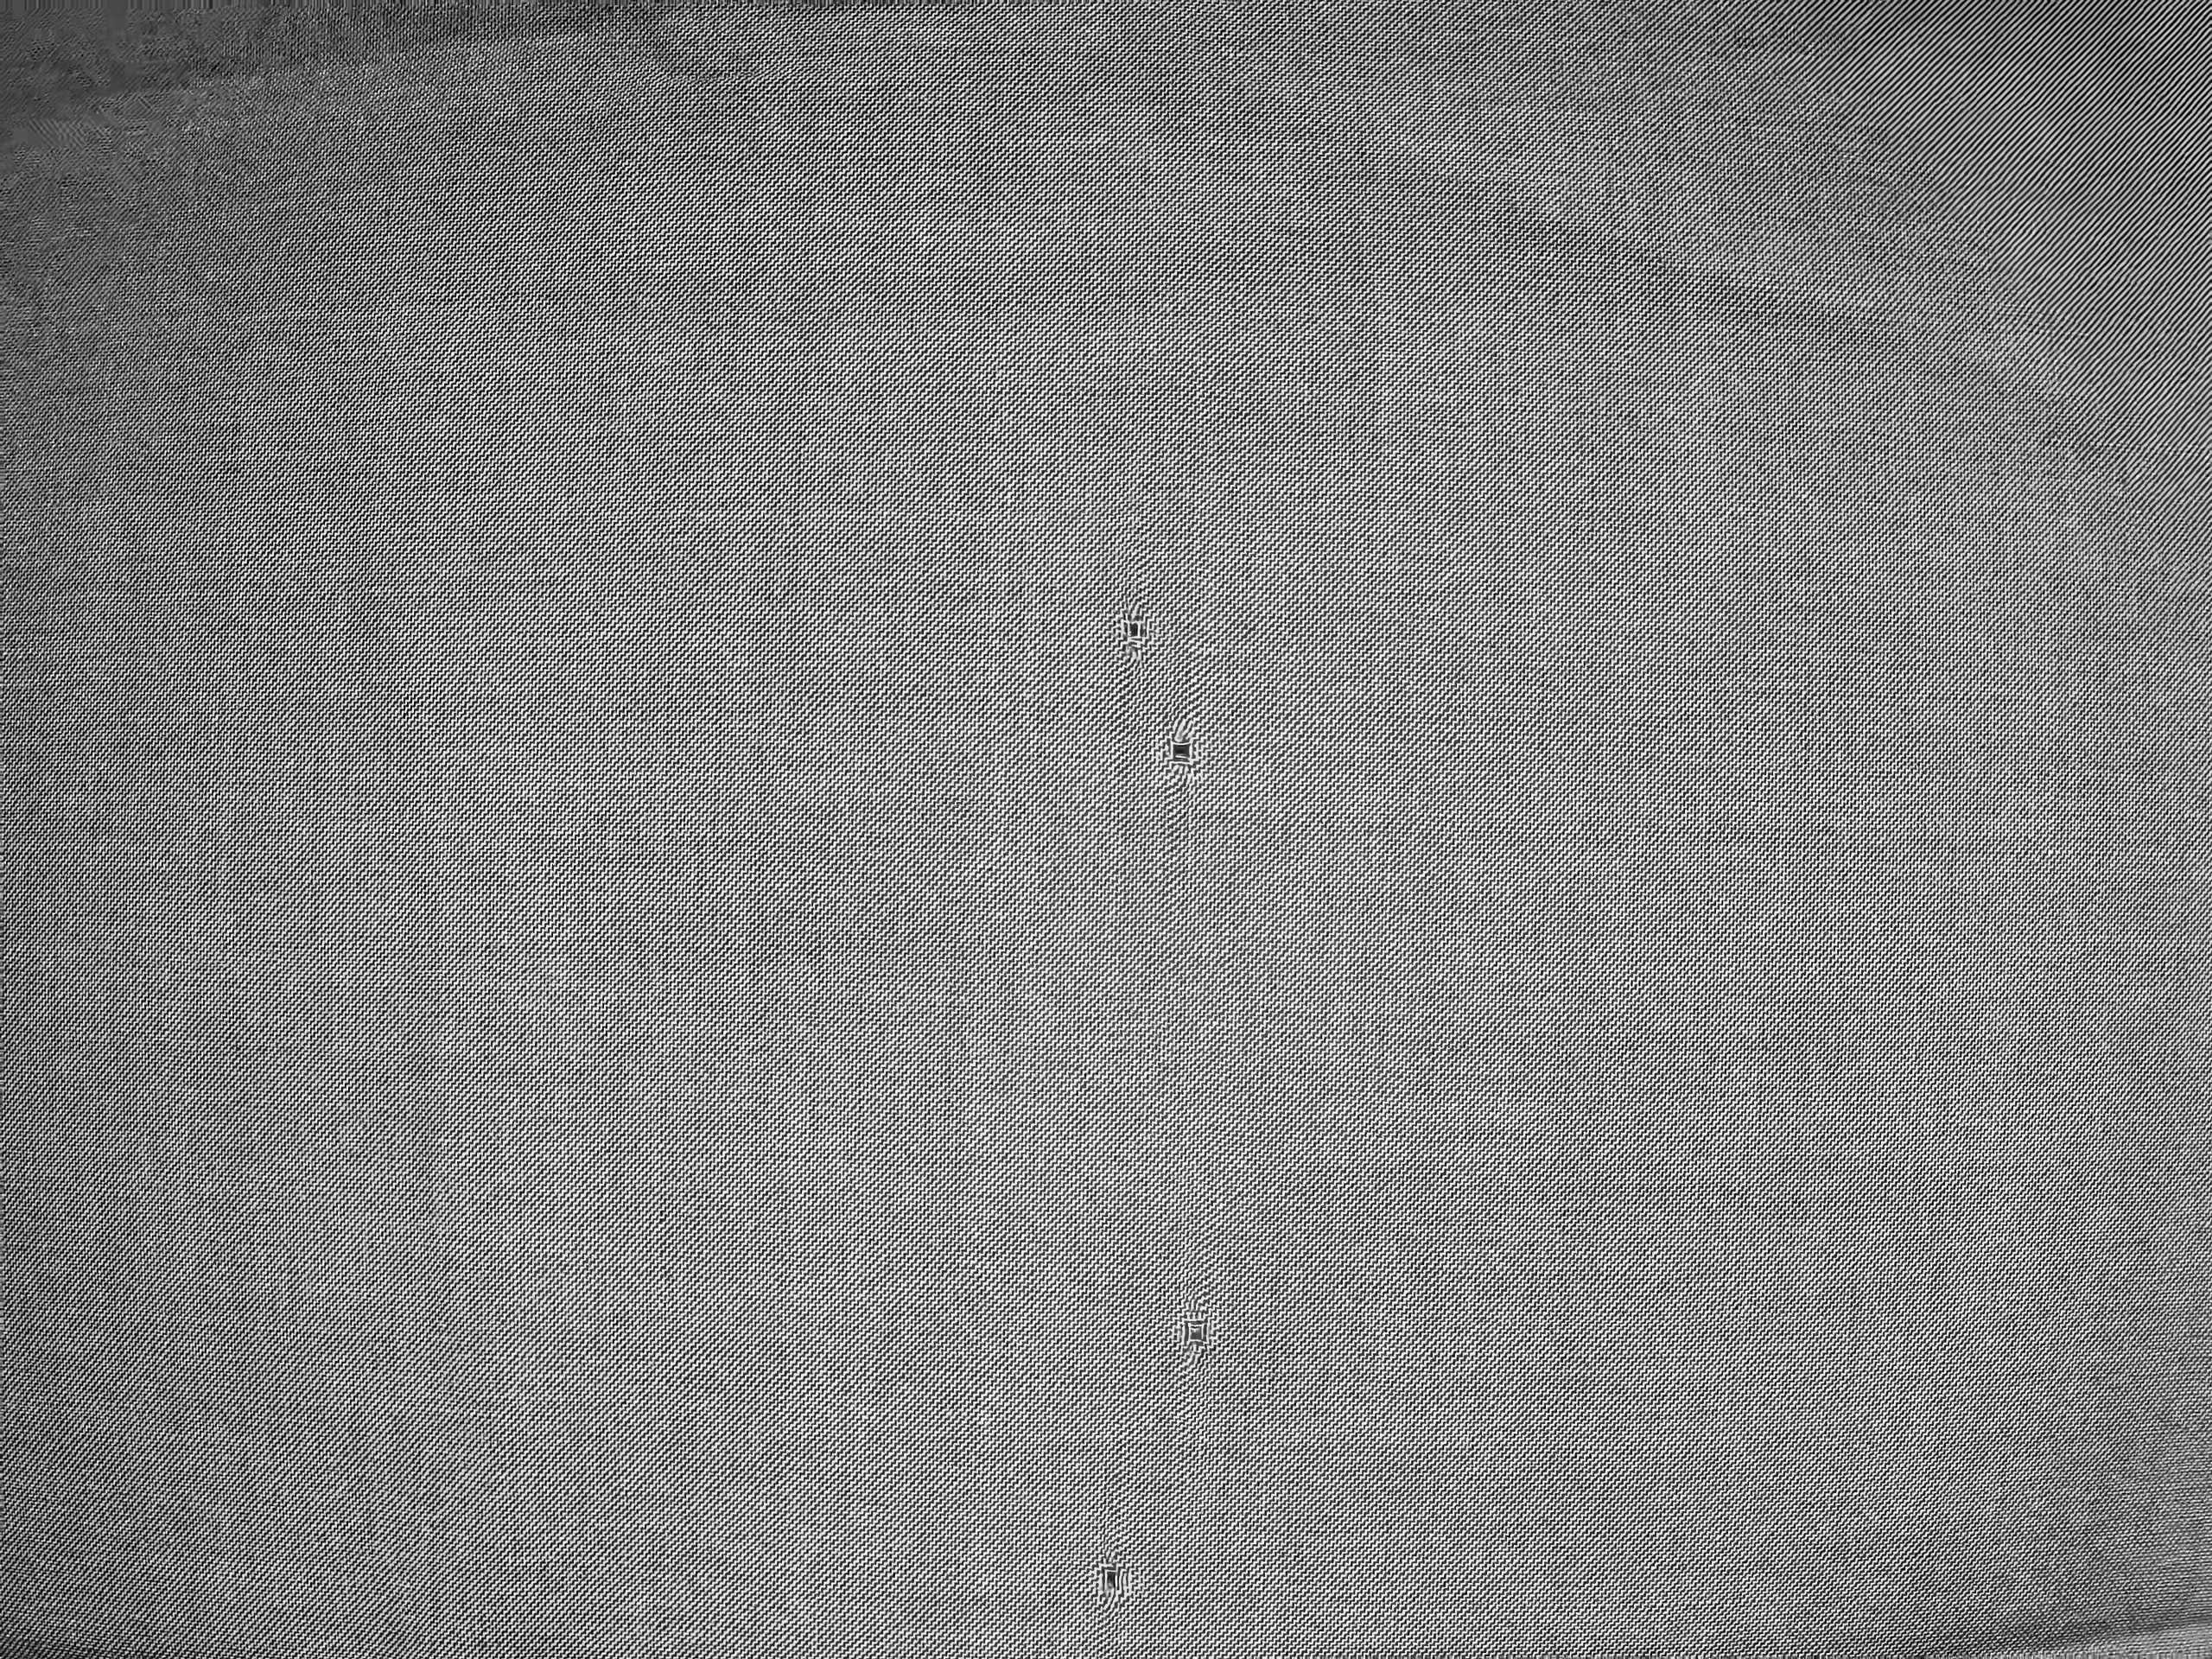brushed-hole: (1076, 1551, 1146, 1615), (1101, 592, 1163, 662), (1150, 714, 1212, 782), (1160, 1302, 1230, 1363)
